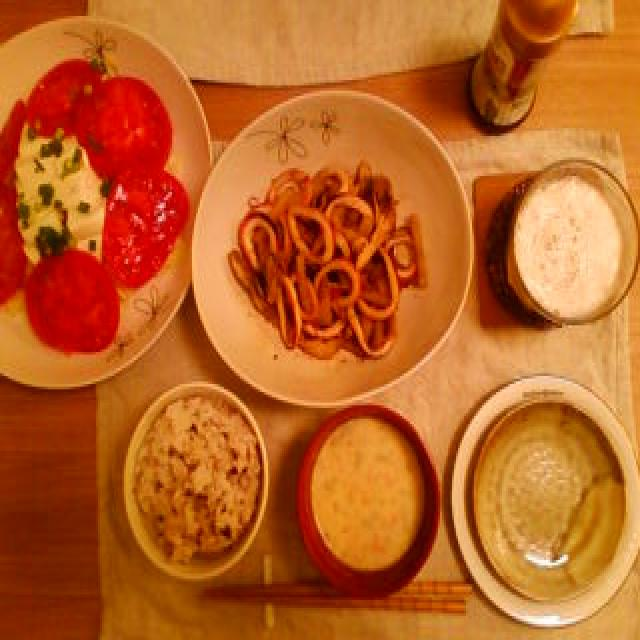米饭主食: (120, 381, 268, 568)
